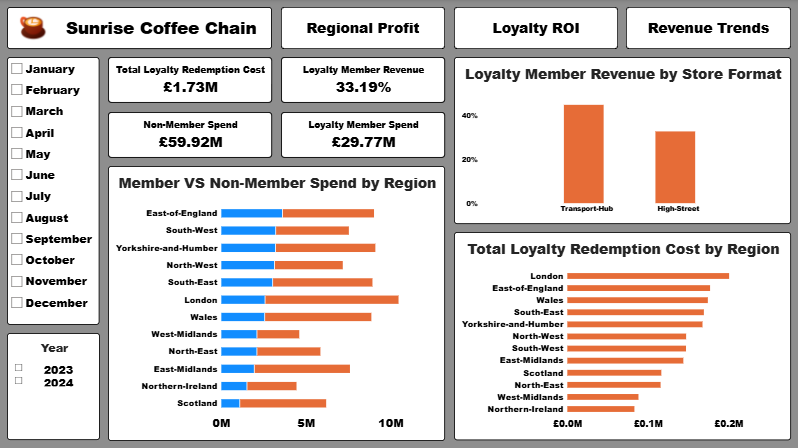

Layout of this report page (visuals, bound fields, positions):
{"tool":"powerbi","page":{"name":"Loyalty ROI","canvas":[1920,1080],"ordinal":1},"visuals":[{"type":"cardVisual","fields":{"Data":["fact_store_monthly_profitability.Total Loyalty Redemption Cost"]},"box":[262,140,394,110.4],"z":0},{"type":"cardVisual","fields":{"Data":["fact_store_monthly_profitability.Loyalty Member Revenue"]},"box":[676,140,394,110],"z":1000},{"type":"cardVisual","fields":{"Data":["fact_store_monthly_profitability.Loyalty Member Spend"]},"box":[676.8,271.2,394,110],"z":2000},{"type":"cardVisual","fields":{"Data":["fact_store_monthly_profitability.Non-Member Spend"]},"box":[262,270,394,110],"z":3000},{"type":"clusteredColumnChart","title":"Loyalty Member Revenue by Store Format","fields":{"Category":["dim_store.store_format"],"Y":["fact_store_monthly_profitability.Loyalty Member Revenue"]},"box":[1092,139.2,809,400.8],"z":4000},{"type":"barChart","title":"Member VS Non-Member Spend by Region","fields":{"Category":["dim_store.region"],"Y":["Sum(fact_store_monthly_profitability.loyalty_member_spend_gbp)","Sum(fact_store_monthly_profitability.non_member_spend_gbp)"]},"box":[261.6,400,809,660],"z":5000},{"type":"clusteredBarChart","title":"Total Loyalty Redemption Cost by Region","fields":{"Category":["dim_store.region"],"Y":["fact_store_monthly_profitability.Total Loyalty Redemption Cost"]},"box":[1092,560,809,500],"z":6000},{"type":"slicer","fields":{"Values":["dim_date.month_name"]},"box":[20,140,222,643.2],"z":7000},{"type":"listSlicer","title":"Year","fields":{"Values":["dim_date.year"]},"box":[19.2,801.6,223.2,256.8],"z":8000},{"type":"actionButton","box":[676.8,20,393.6,100.8],"z":8001},{"type":"actionButton","box":[1092,20,393.6,100.8],"z":8002},{"type":"actionButton","box":[1504.8,20,396,100.8],"z":8003},{"type":"actionButton","box":[20,20,636,100.8],"z":8004}]}

Visuals, with their boxes in screenshot pixels (x1, y1, x2, y2), scaled from the page's 1920x1080 canvas onto the 798x448 screenshot:
cardVisual - fact_store_monthly_profitability.Total Loyalty Redemption Cost: box(109, 58, 273, 104)
cardVisual - fact_store_monthly_profitability.Loyalty Member Revenue: box(281, 58, 445, 104)
cardVisual - fact_store_monthly_profitability.Loyalty Member Spend: box(281, 112, 445, 158)
cardVisual - fact_store_monthly_profitability.Non-Member Spend: box(109, 112, 273, 158)
"Loyalty Member Revenue by Store Format" clusteredColumnChart: box(454, 58, 790, 224)
"Member VS Non-Member Spend by Region" barChart: box(109, 166, 445, 440)
"Total Loyalty Redemption Cost by Region" clusteredBarChart: box(454, 232, 790, 440)
slicer - dim_date.month_name: box(8, 58, 101, 325)
"Year" listSlicer: box(8, 333, 101, 439)
actionButton: box(281, 8, 445, 50)
actionButton: box(454, 8, 617, 50)
actionButton: box(625, 8, 790, 50)
actionButton: box(8, 8, 273, 50)
